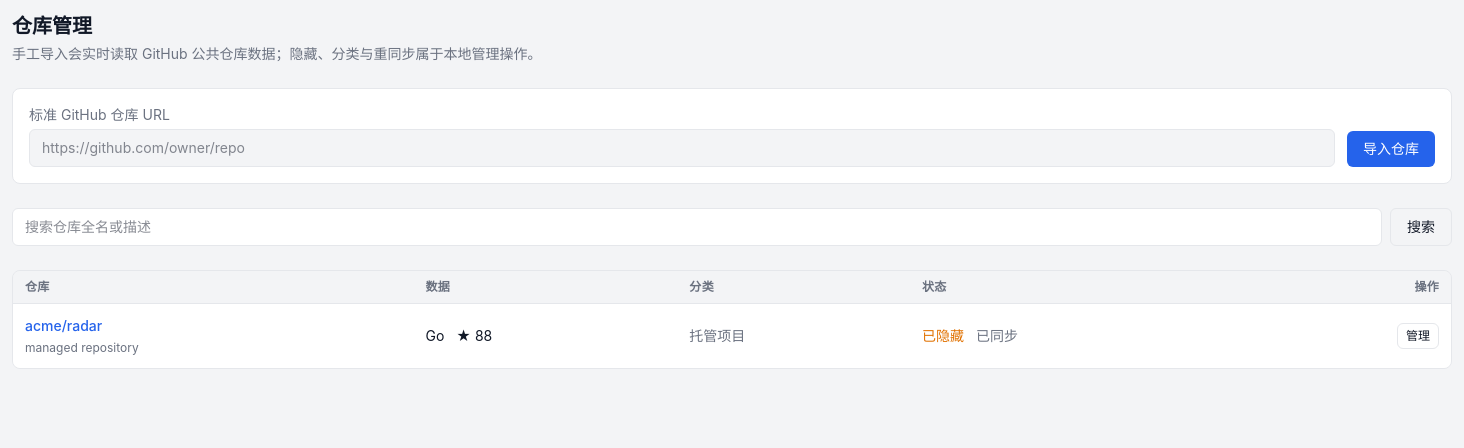
Test case: AdminRepositoriesPage › reloads rather than duplicating a refreshed repository
Step 1. Type "https://github.com/acme/radar" into the field with test id "import-url" → (682, 148), box [29,129,1335,167]
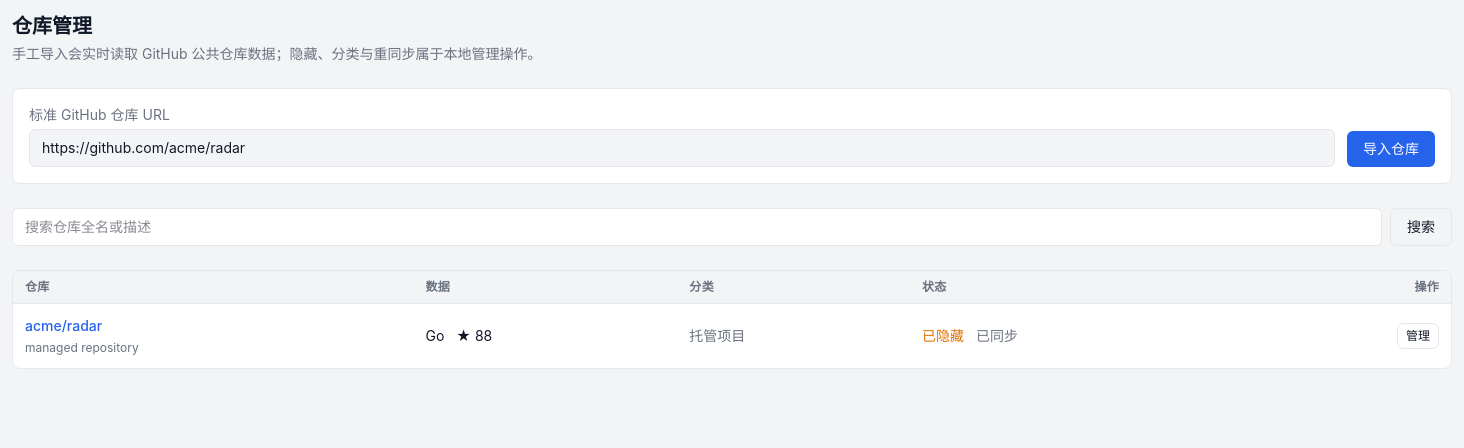
Step 2. Submit the form with test id "import-form", box [12,88,1452,184]
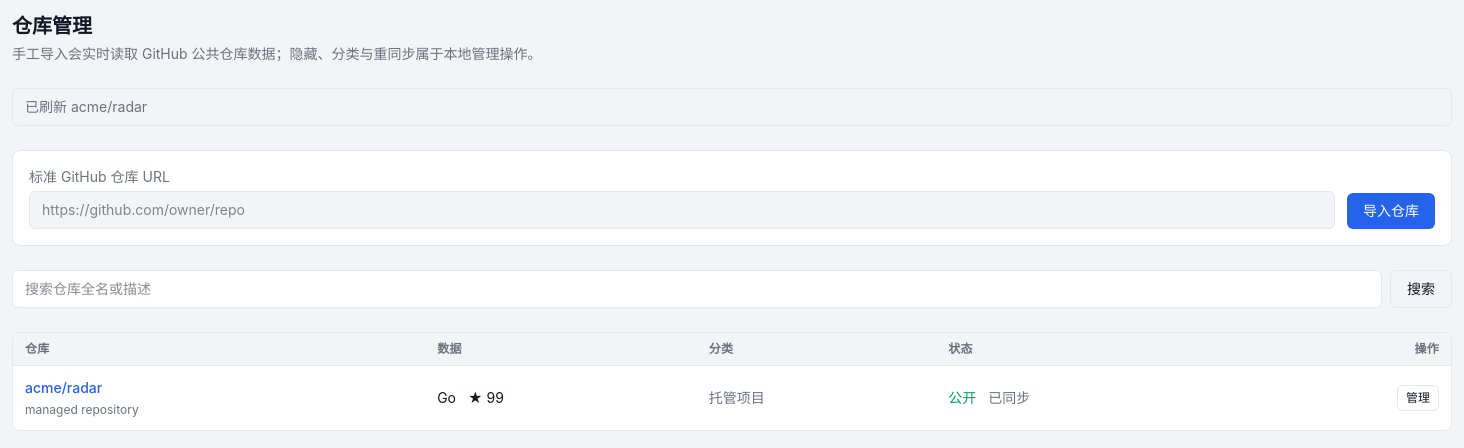
Check: the number of rows with test id "repo-row-9" is 1, box [13,366,1451,430]
Check: the row with test id "repo-row-9" shows "99", box [468,389,504,406]
Check: the text "已刷新 acme/radar" is shown, box [12,88,1452,126]
